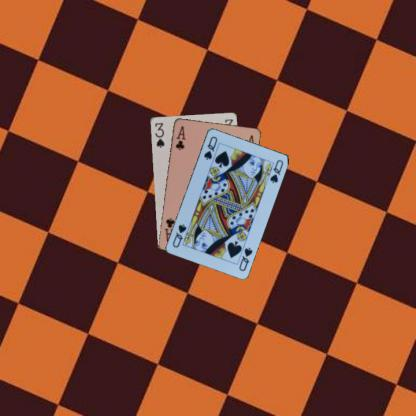3s: (152, 120, 165, 149)
Ac: (172, 123, 186, 151)
Qs: (236, 245, 254, 272), (201, 134, 218, 160)
